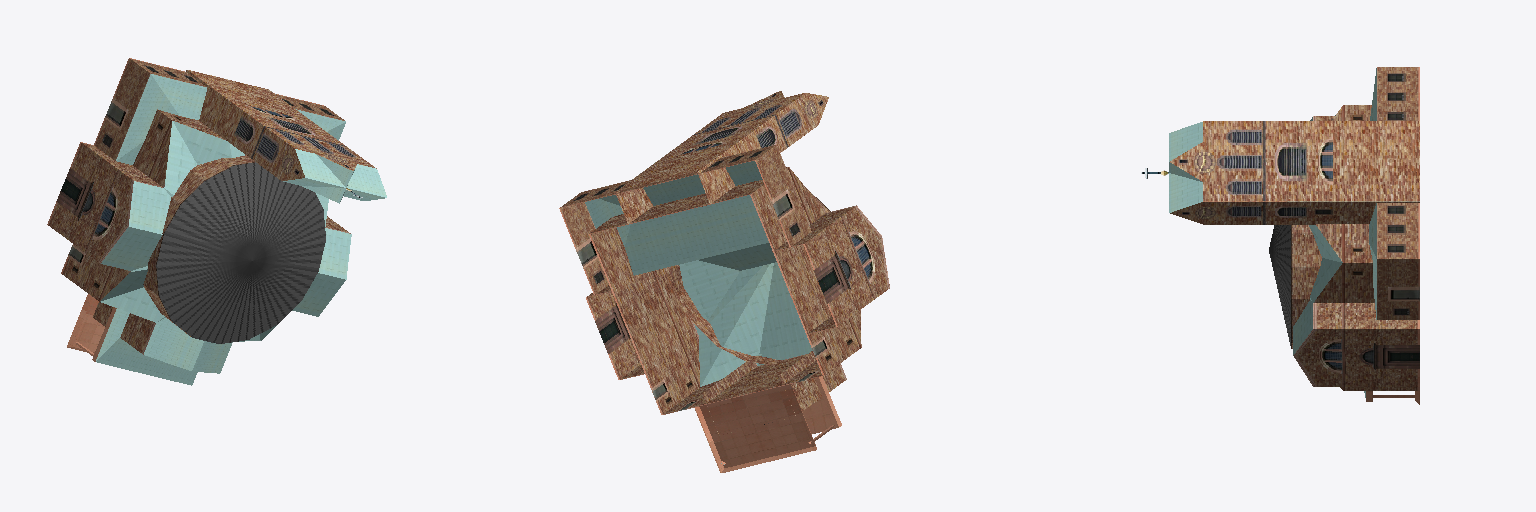
3 views of the same model, side by side, from view 1: azimuth 30°, elevation 25°; view 2: azimuth 150°, elevation 25°; view 3: azimuth 270°, elevation 25° (orthographic).
Parts seen in each view (by area): view 1: SANKT-STEPHAN_L; view 2: SANKT-STEPHAN_L; view 3: SANKT-STEPHAN_L.
Boxes of the visible parts, <box> form: SANKT-STEPHAN_L: <box>47,58,386,385</box>; SANKT-STEPHAN_L: <box>559,91,889,472</box>; SANKT-STEPHAN_L: <box>1141,67,1419,404</box>.
Bounding box in the file's own units: 54.91 × 60.8 × 48.06.
1 materials, 1 textured.